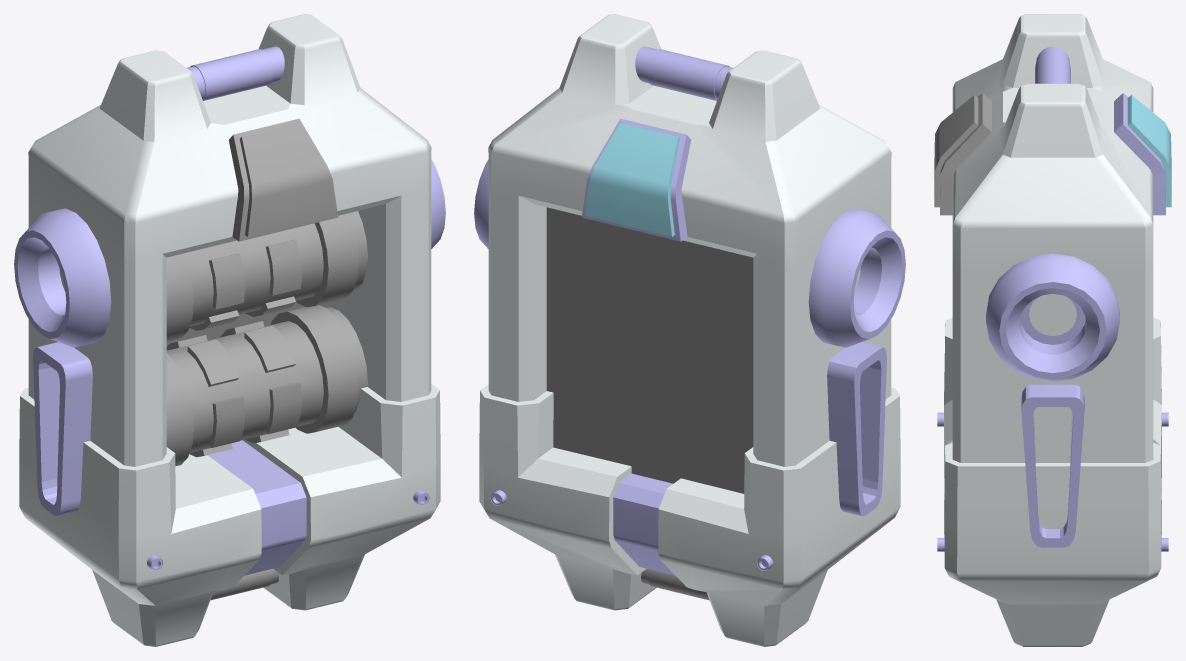
The model's file is health1.fbx.
The picture shows the model from 3 angles, left to right: view 1: azimuth 30°, elevation 25°; view 2: azimuth 150°, elevation 25°; view 3: azimuth 270°, elevation 25°; orthographic projection. The views are drawn at different scales.
Visible parts, largest first — view 1: polySurface31, polySurface38, polySurface39, polySurface57, polySurface34, polySurface59, polySurface37, polySurface40, polySurface55, polySurface45; view 2: polySurface31, polySurface40, polySurface57, polySurface35, polySurface59, polySurface37, polySurface55, polySurface45; view 3: polySurface31, polySurface55, polySurface53, polySurface34, polySurface35, polySurface37.
Boxes of the visible parts, x1,y1,x2,y2 form: polySurface31: (19, 14, 440, 646); polySurface38: (166, 305, 367, 466); polySurface39: (166, 211, 367, 341); polySurface57: (14, 208, 111, 347); polySurface34: (228, 118, 338, 241); polySurface59: (33, 342, 92, 515); polySurface37: (187, 46, 284, 100); polySurface40: (166, 302, 305, 346); polySurface55: (431, 159, 445, 248); polySurface45: (210, 569, 278, 600); polySurface31: (479, 14, 900, 646); polySurface40: (546, 207, 753, 493); polySurface57: (808, 208, 905, 347); polySurface35: (581, 118, 691, 241); polySurface59: (827, 342, 886, 515); polySurface37: (635, 46, 732, 100); polySurface55: (474, 159, 488, 248); polySurface45: (641, 569, 709, 600); polySurface31: (944, 14, 1161, 646); polySurface55: (986, 253, 1119, 381); polySurface53: (1021, 384, 1084, 547); polySurface34: (934, 93, 991, 215); polySurface35: (1114, 93, 1171, 215); polySurface37: (1035, 46, 1070, 83).
Bounding box in the file's own units: 1.09 × 1.56 × 0.6168.
